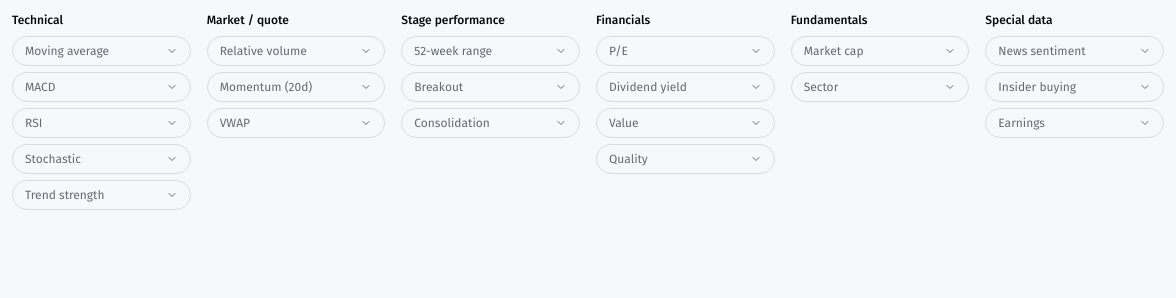
Test: ConditionBuilder › a pill opens a dropdown of concrete values — no navigation away
Click the button with test id "condition-pill-RSI": point(101, 123) [12,108,191,138]
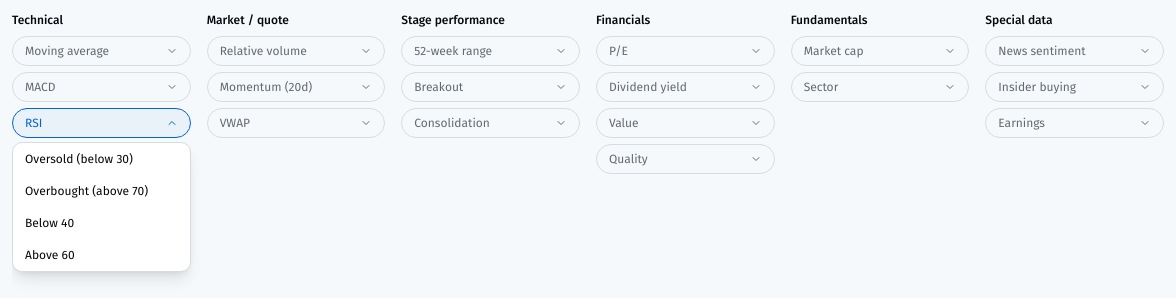
expect the element with test id "condition-options-RSI" shows "Oversold (below 30)": met, box [13,143,190,175]
expect the element with test id "condition-options-RSI" shows "Overbought (above 70)": met, box [13,175,190,207]
